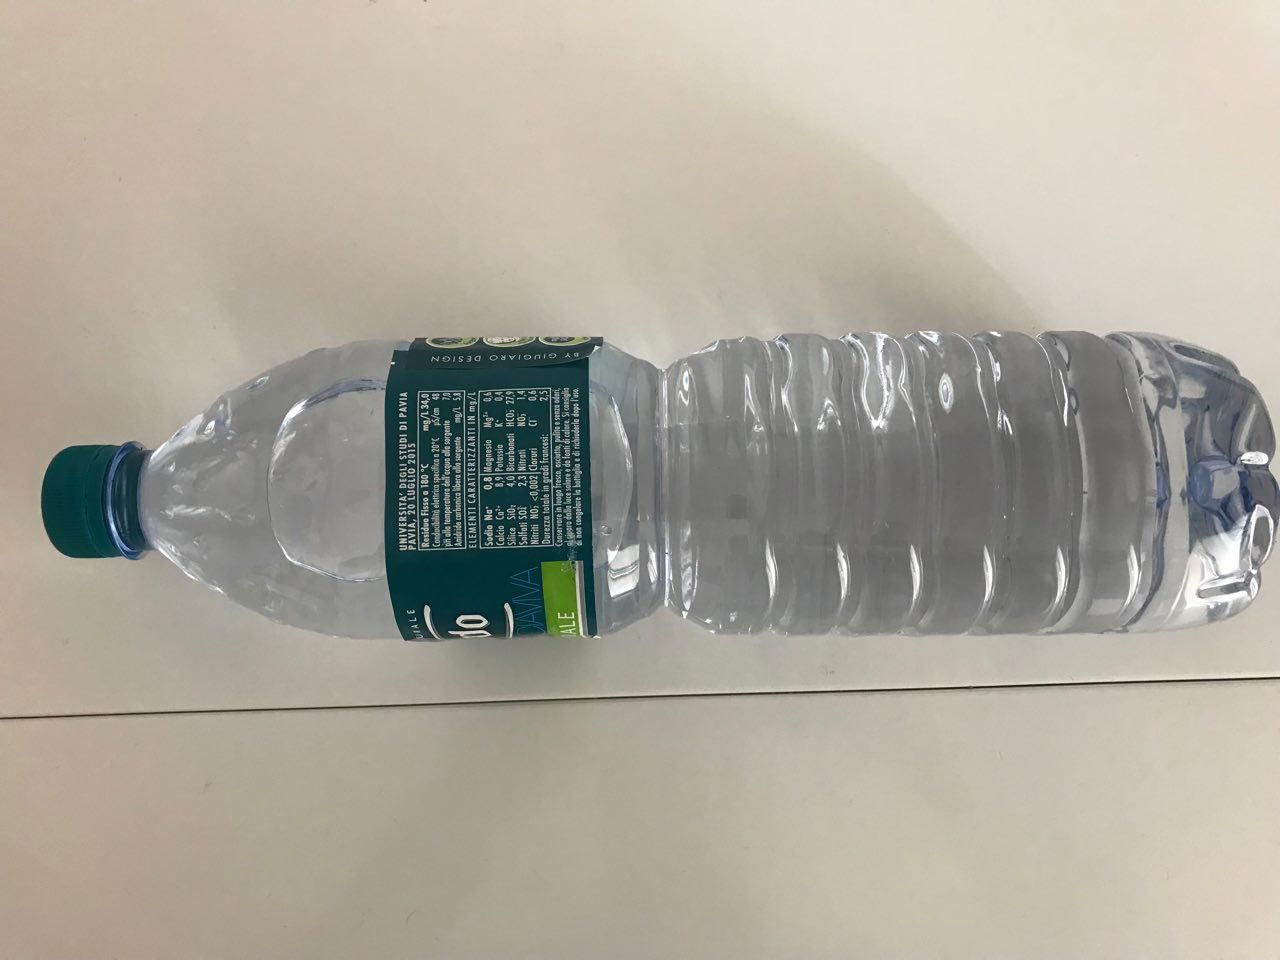san_bernardo: (40, 328, 1280, 644)
